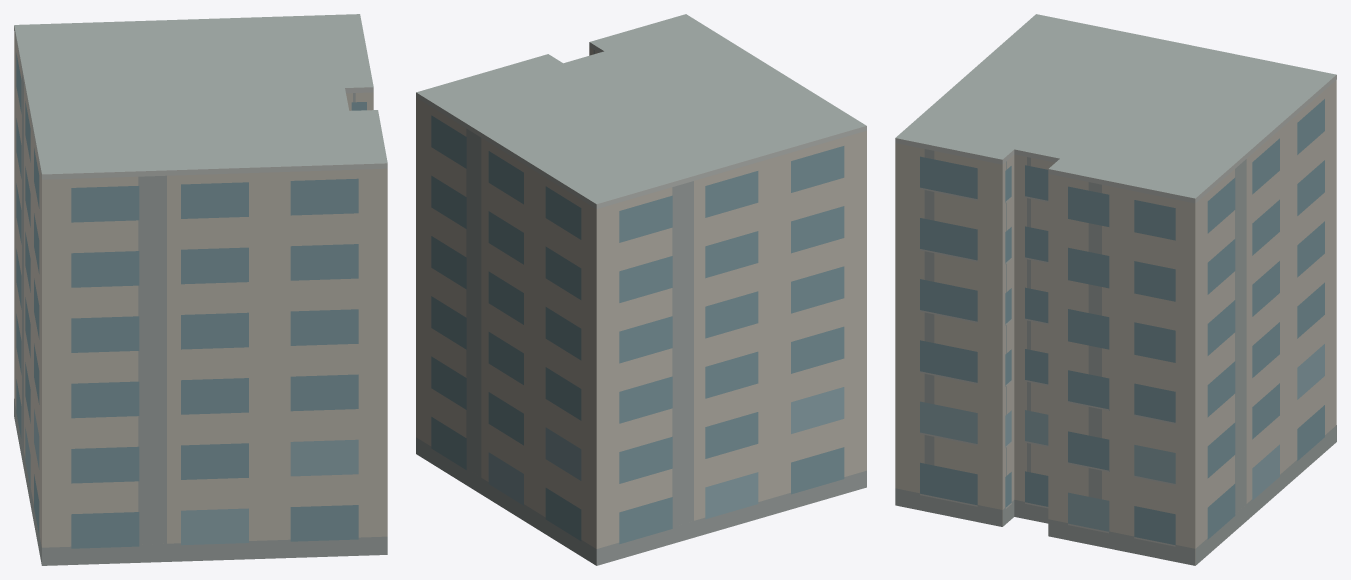
Rendered from survey-upis-32819139.glb.
3 renders of one model, left to right at view 1: azimuth 30°, elevation 25°; view 2: azimuth 150°, elevation 25°; view 3: azimuth 270°, elevation 25°, orthographic. The views are drawn at different scales.
Visible parts, largest first — view 1: survey-upis-32819139.tmp; view 2: survey-upis-32819139.tmp; view 3: survey-upis-32819139.tmp.
Part boxes in pixels (bbox=[...]): survey-upis-32819139.tmp: bbox=[14, 14, 387, 565]; survey-upis-32819139.tmp: bbox=[416, 14, 866, 565]; survey-upis-32819139.tmp: bbox=[895, 14, 1336, 565].
Size of the model in its own units: 19.36 by 17.96 by 19.57.
